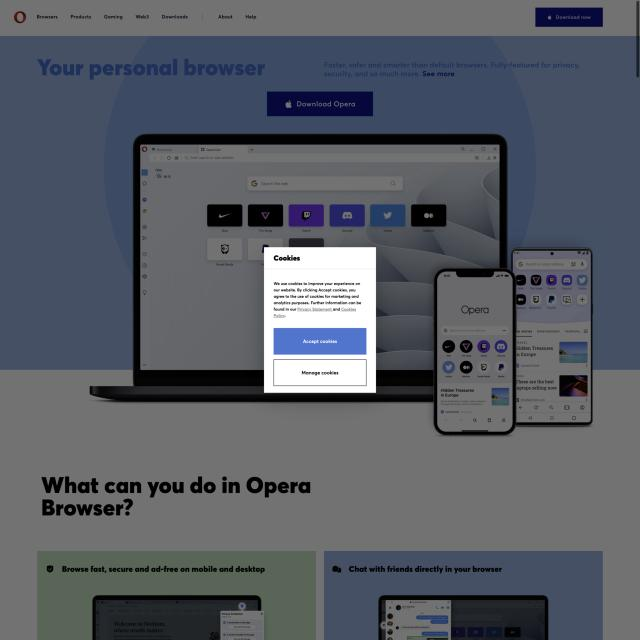CheckBox: (273, 328, 367, 355), (273, 359, 367, 386)
Input field: (272, 279, 363, 319)
breadcrumbs: (272, 254, 301, 262)
data feed: (300, 338, 340, 347), (301, 368, 340, 377)
header: (264, 247, 376, 393)
